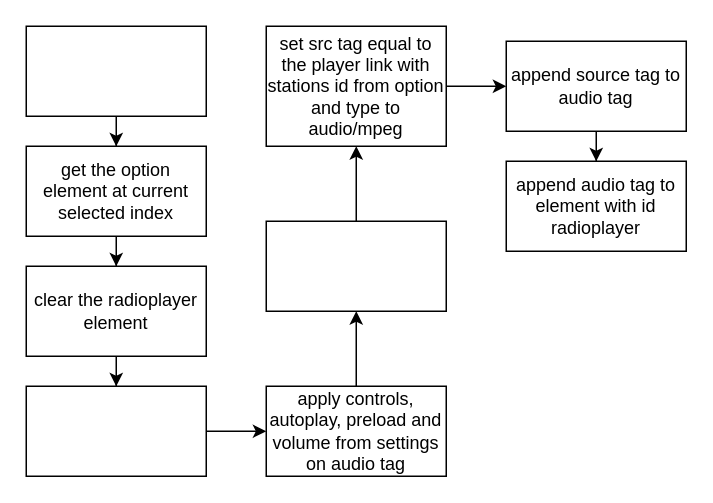
This 713x503 diagram has some shape labels left out. The shapes that lost their labels are listed below. From the top down, each one's centre as x and y in pixels, then its label:
(x=115, y=70): on playbutton button clicked
(x=355, y=265): add event listener that listents for volume change on audio tag
(x=115, y=430): create new audio and source tag
